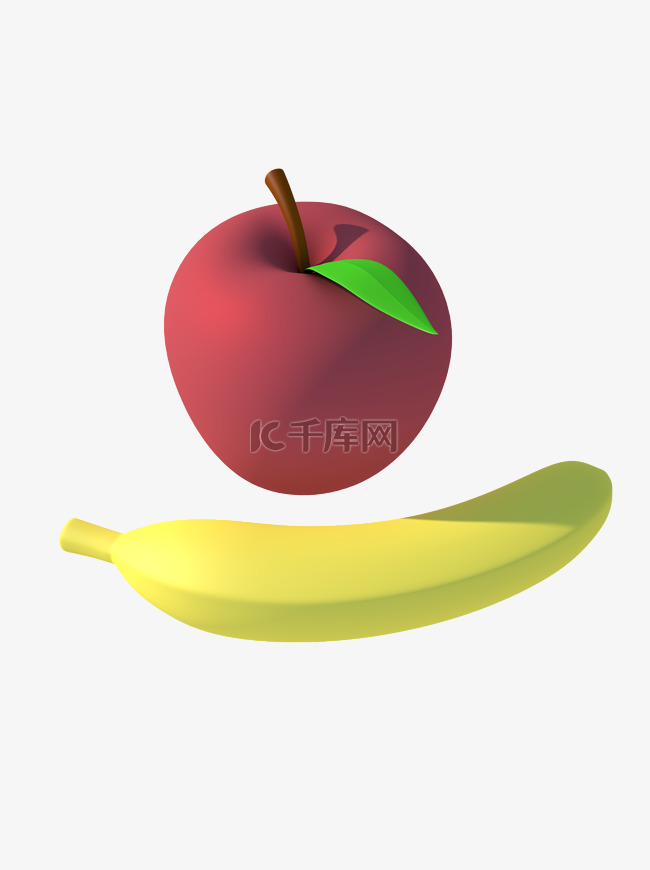apple: (163, 166, 451, 495)
banana: (63, 489, 635, 646)
